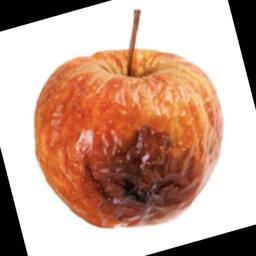Apple Rotten: (22, 15, 256, 233)
